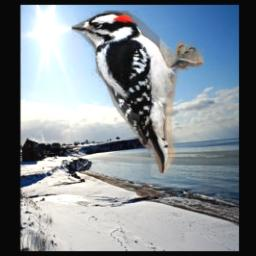Woodpecker: (71, 12, 203, 174)
